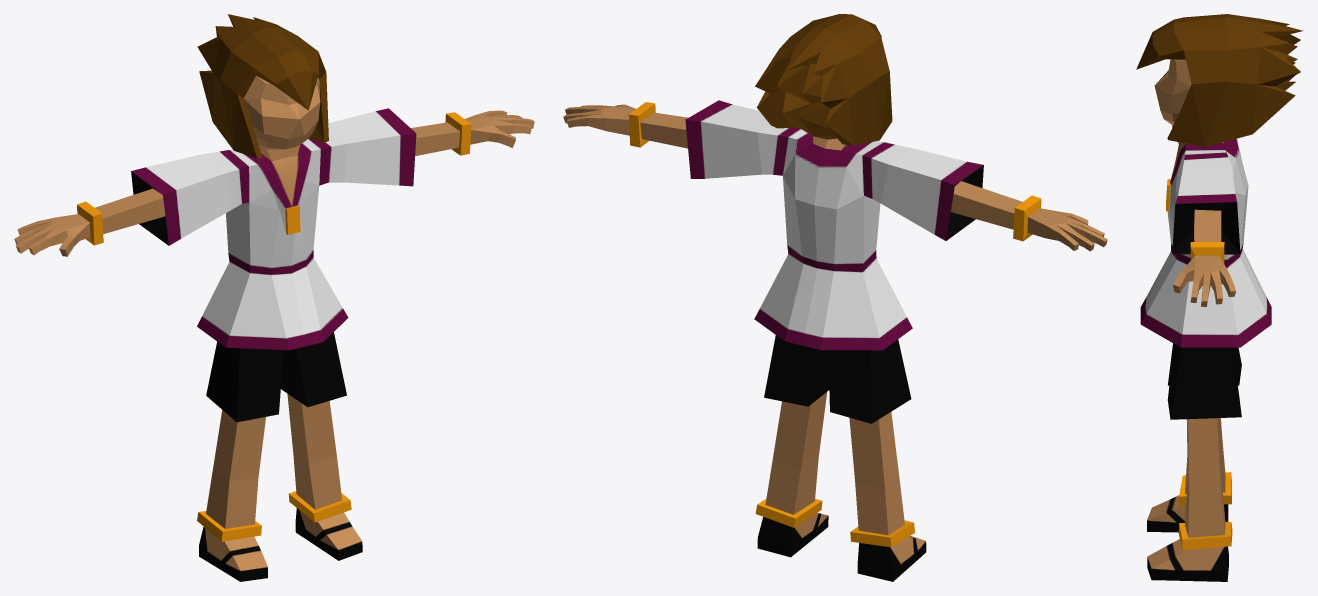
Rendered from woowwweeeee.fbx.
3 renders of one model, left to right at view 1: azimuth 30°, elevation 25°; view 2: azimuth 150°, elevation 25°; view 3: azimuth 270°, elevation 25°, orthographic. The views are drawn at different scales.
Visible parts, largest first — view 1: pCube2; view 2: pCube2; view 3: pCube2.
Part boxes in pixels (left/top/right/bottom): pCube2: left=14, top=14, right=534, bottom=581; pCube2: left=563, top=14, right=1107, bottom=581; pCube2: left=1136, top=14, right=1303, bottom=581.
Bounding box in the file's own units: 2.97 × 2.82 × 0.8059.
